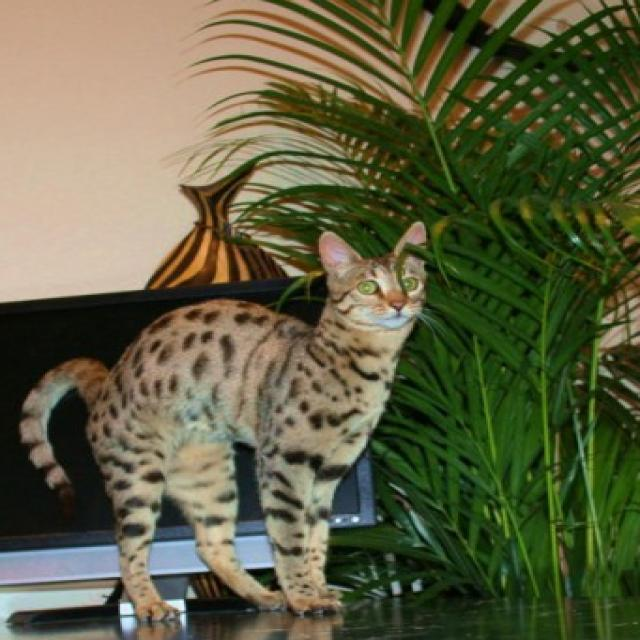Savannah: (16, 218, 436, 628)
